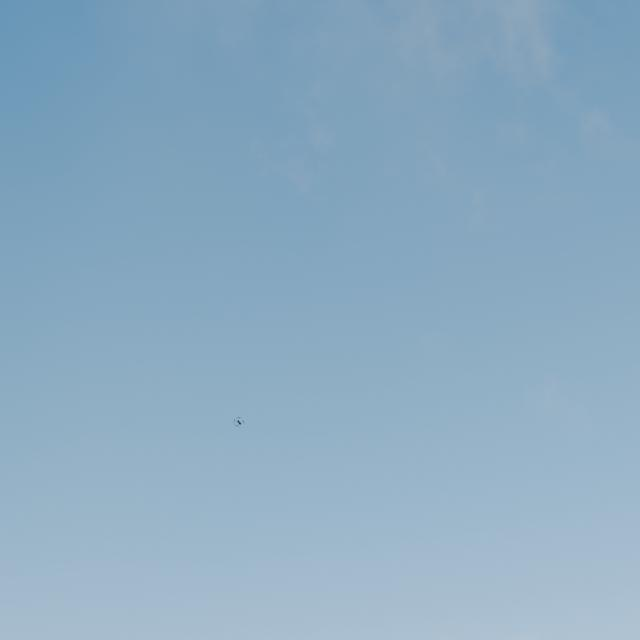Airaplan: (234, 417, 245, 428)
